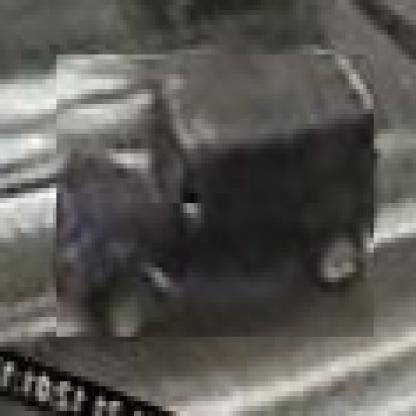car: (54, 56, 375, 343)
